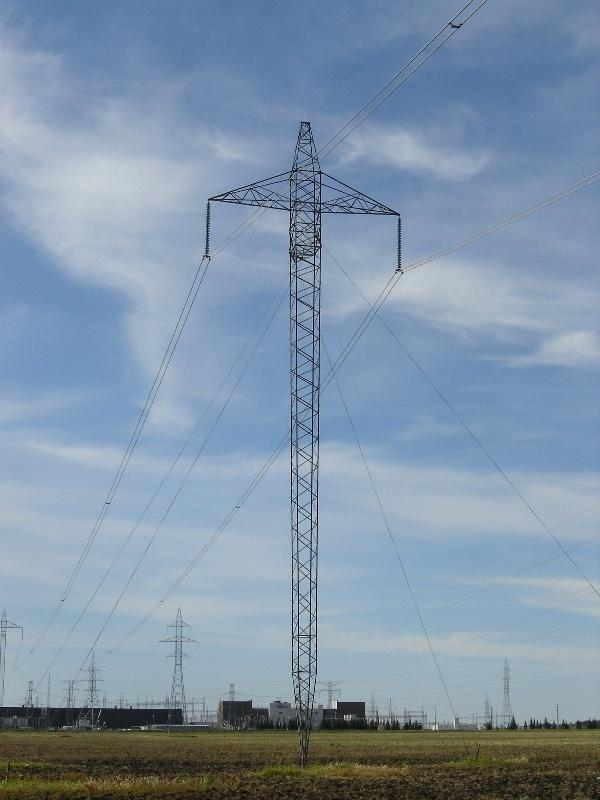power_tower: (203, 117, 402, 766), (160, 599, 195, 727), (0, 609, 23, 709), (85, 641, 102, 711), (501, 653, 515, 734), (316, 678, 347, 710), (59, 678, 82, 707), (226, 674, 238, 726), (42, 668, 52, 714), (482, 686, 492, 726), (26, 676, 34, 714), (367, 688, 376, 721), (116, 691, 128, 709), (101, 691, 110, 708)
